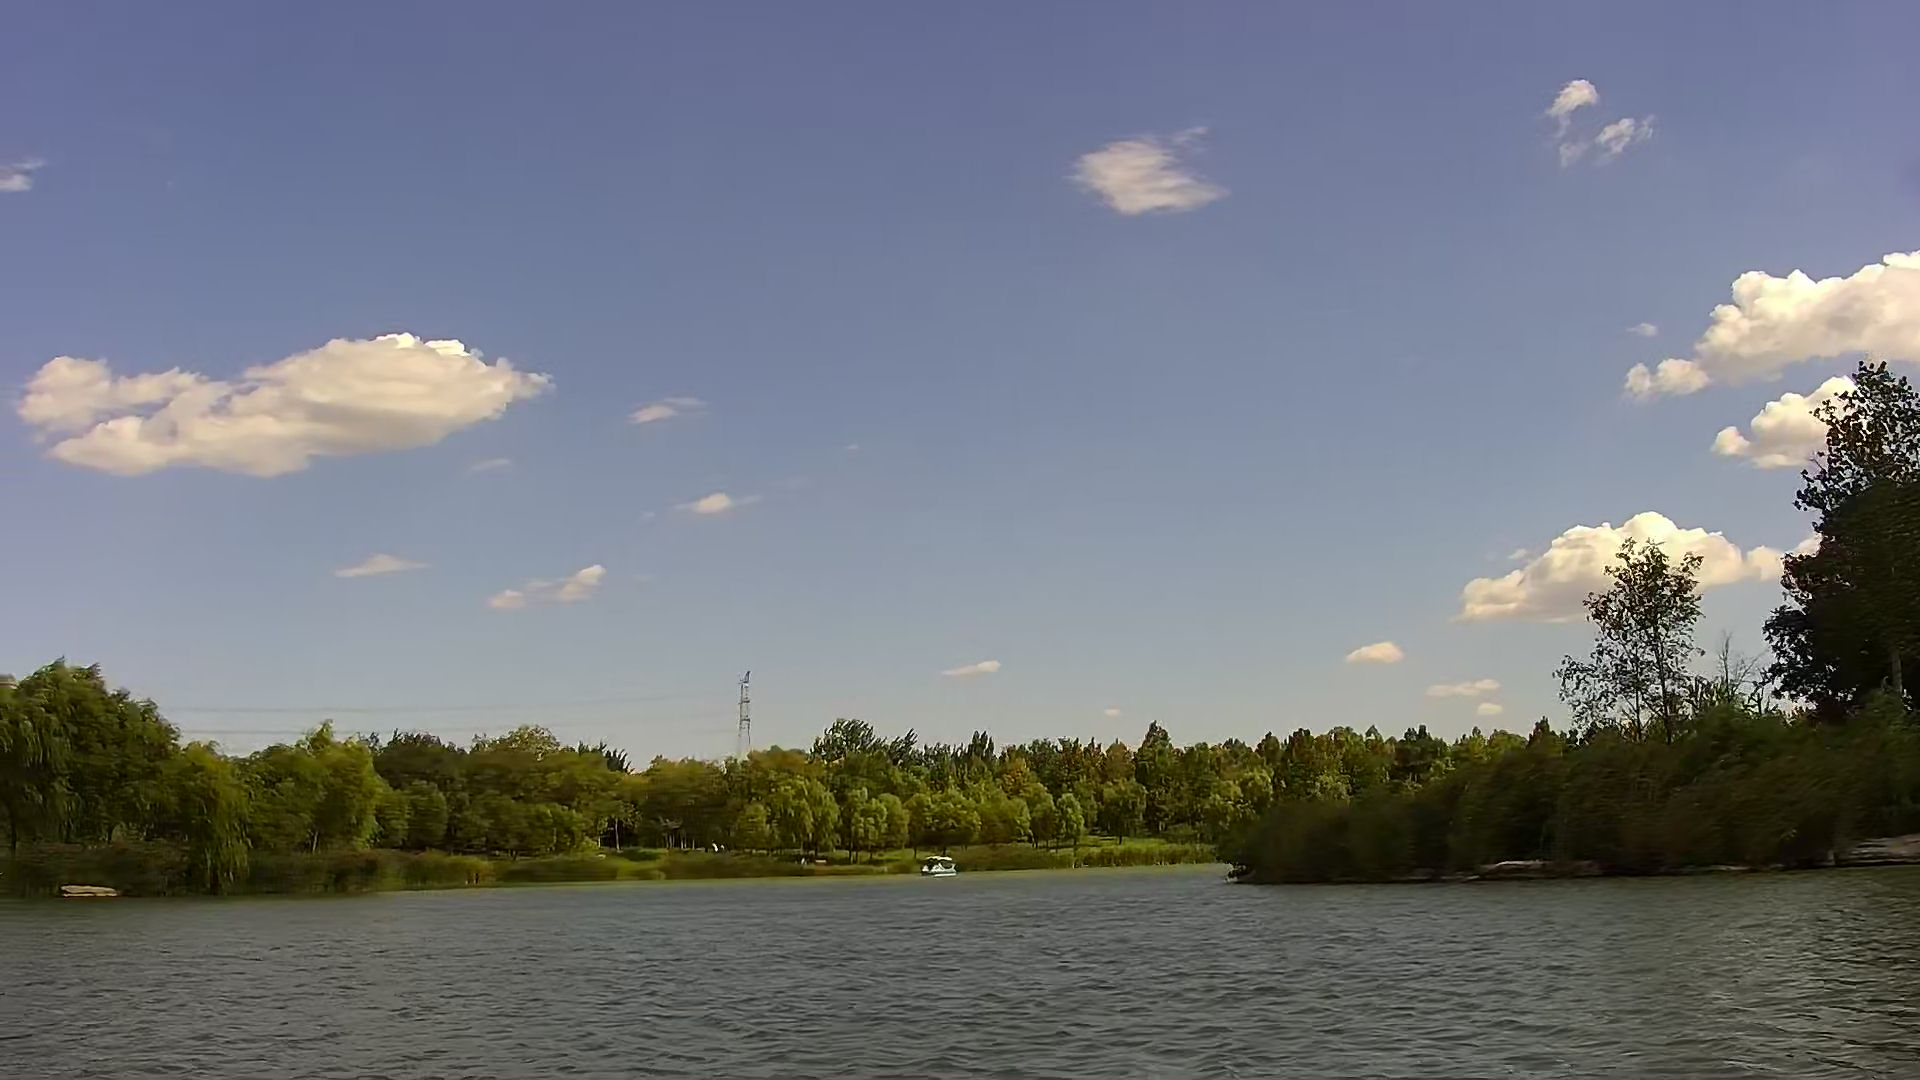boat: (920, 851, 951, 877)
rock: (1844, 837, 1920, 861), (55, 880, 111, 903), (1482, 860, 1571, 874), (1706, 856, 1746, 874)
